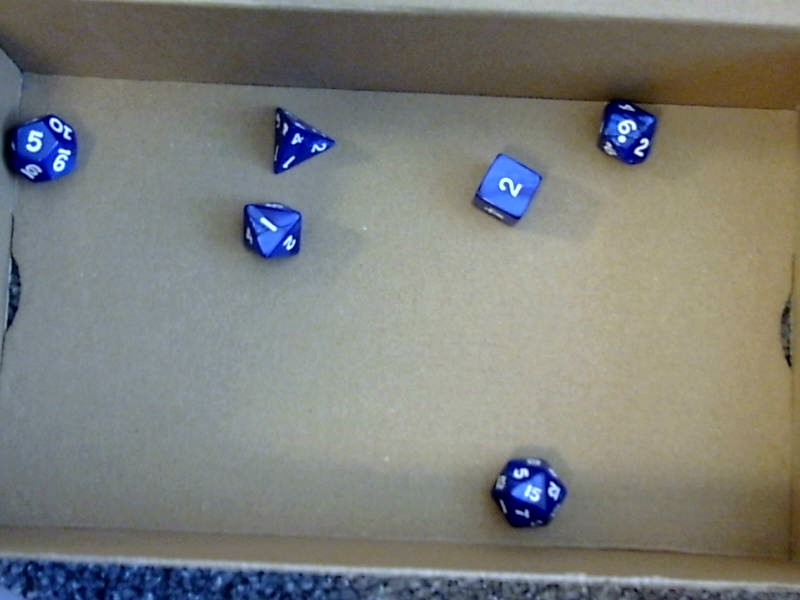d10 6: (588, 92, 666, 169)
d12 5: (4, 114, 79, 182)
d20 15: (486, 444, 569, 530)
d4 4: (264, 98, 333, 174)
d6 2: (466, 150, 544, 234)
d8 1: (233, 195, 306, 263)
